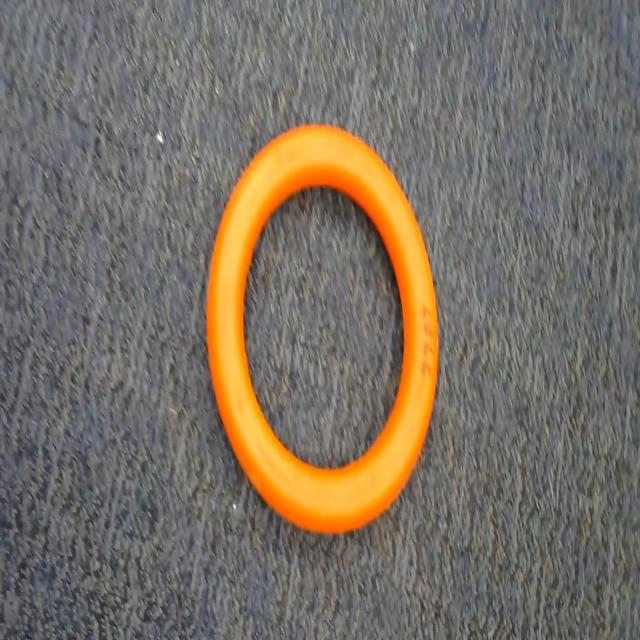note: (206, 96, 444, 542)
